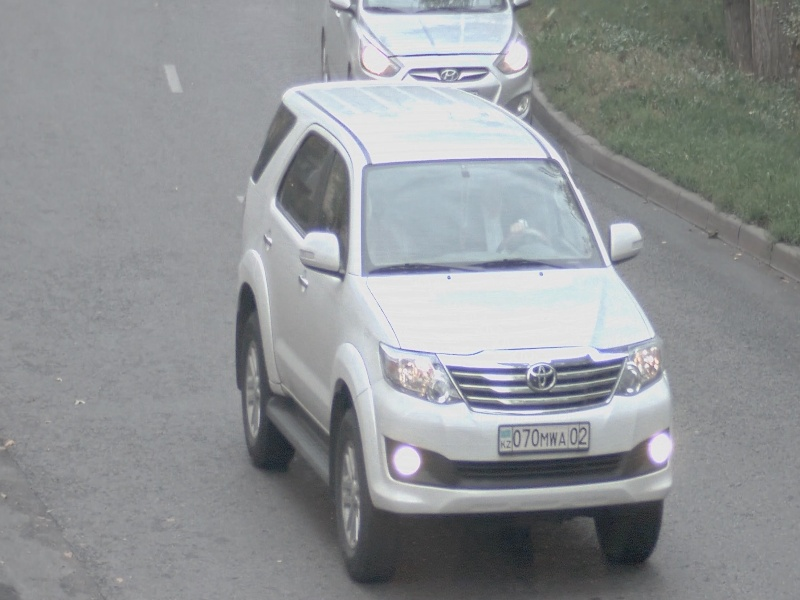plate: (497, 421, 591, 455)
